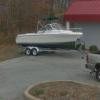Boat: (10, 17, 88, 64)
